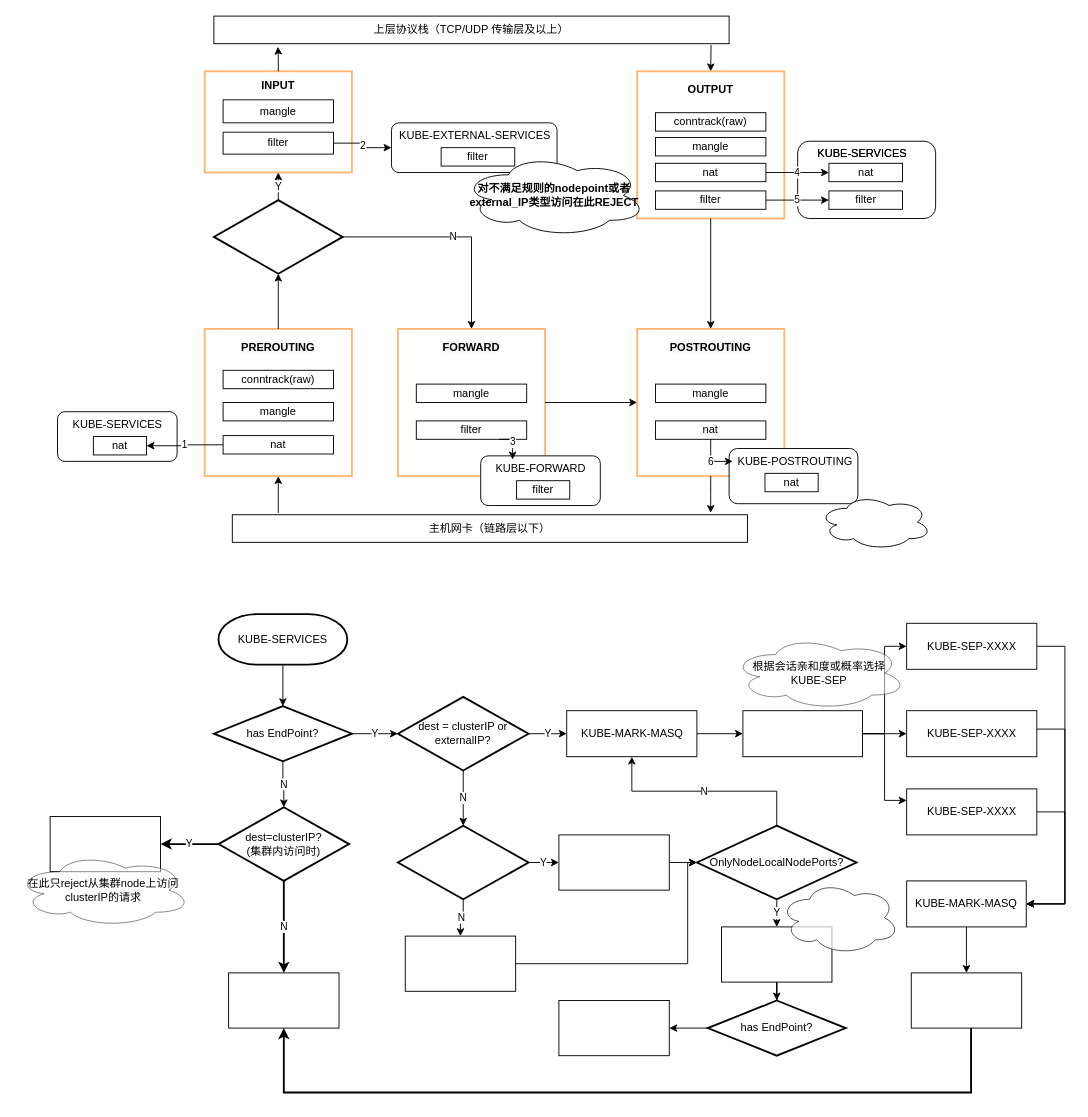
This 1088x1117 diagram has some shape labels left out. The shapes that lost their labels are listed below. From the top down, each one's centre as x and y in pixels, then its label:
At point (278, 236): "是否到本地路由".
At point (875, 522): "在此做SNAT".
At point (802, 733): "KUBE-SVC-XXXX".
At point (105, 844): "REJECT".
At point (463, 862): "dest=intessIP and port=xxxx?".
At point (613, 862): "KUBE-FW-XXX".
At point (839, 917): "KUBE-XLB只会将流量导入本节点的POD".
At point (460, 963): "KUBE-NODE-PORTS".
At point (776, 954): "KUBE-XLB-XXX".
At point (283, 1000): "返回主链规则".
At point (966, 1000): "在KUBE-SEP-XXX中完成DNAT".
At point (613, 1028): "KUBE-MARK-DROP".
